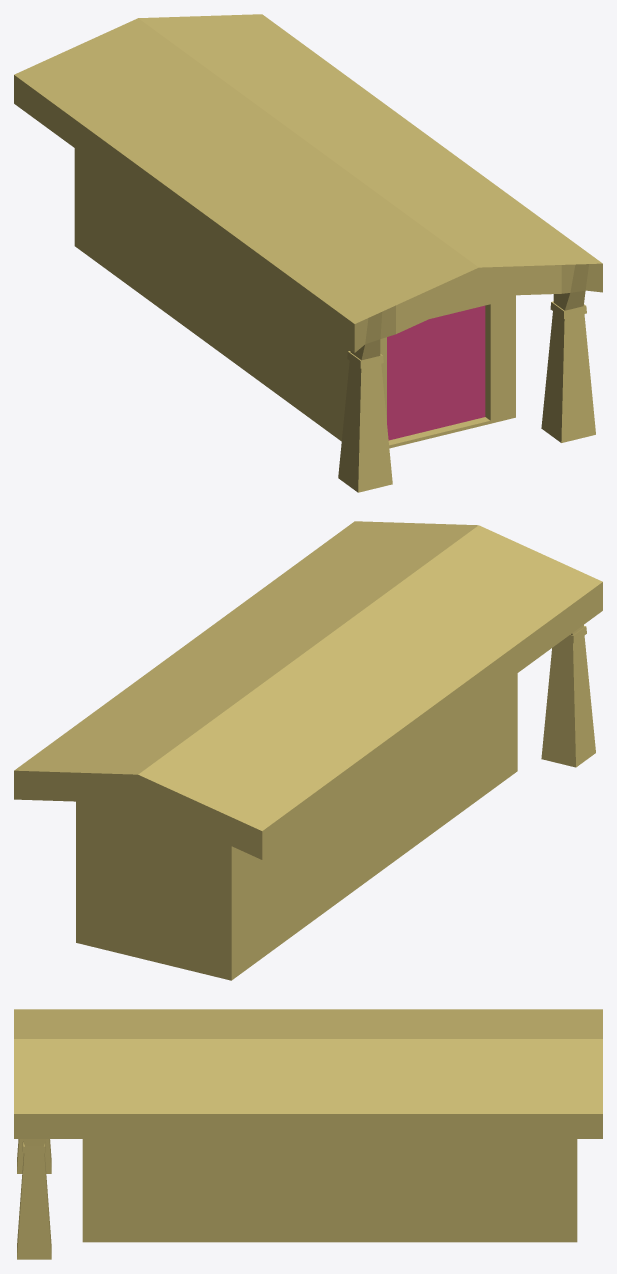
The model's file is temple.fbx.
3 views of the same model, one above another, from view 1: azimuth 30°, elevation 25°; view 2: azimuth 150°, elevation 25°; view 3: azimuth 270°, elevation 25° (orthographic). The views are drawn at different scales.
Parts seen in each view (by area): view 1: Cube.007; view 2: Cube.007; view 3: Cube.007.
Boxes of the visible parts, <box> form: Cube.007: <box>14,14,602,492</box>; Cube.007: <box>14,521,602,980</box>; Cube.007: <box>14,1009,602,1259</box>.
Size of the model in its own units: 698 by 532 by 1661.
